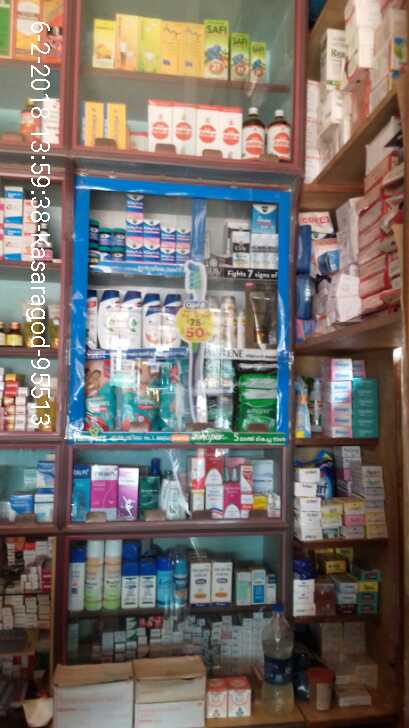vicks: (86, 188, 195, 266)
